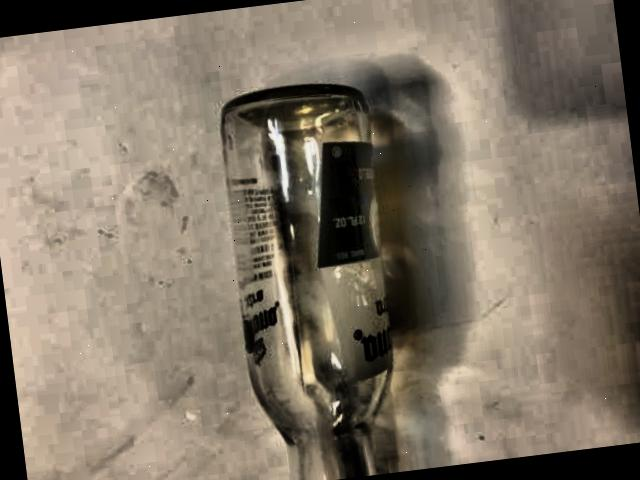Bottles: (167, 42, 456, 480)
